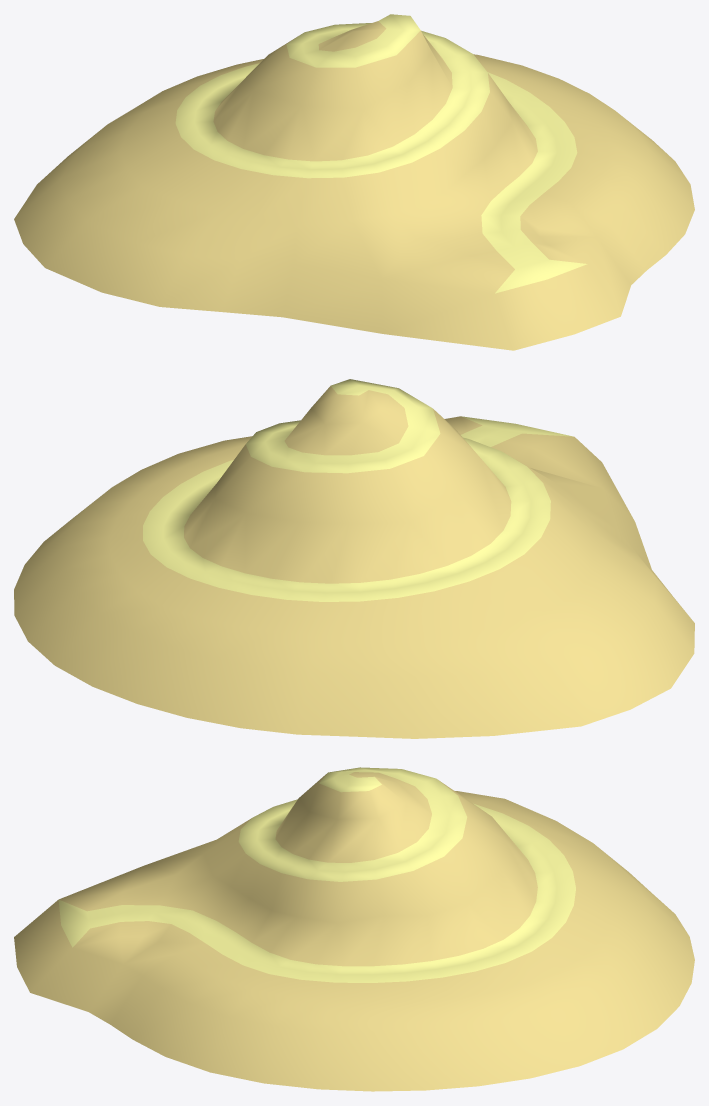
File: model_island_01.fbx
The picture shows the model from 3 angles, top to bottom: view 1: azimuth 30°, elevation 25°; view 2: azimuth 150°, elevation 25°; view 3: azimuth 270°, elevation 25°; orthographic projection. The views are drawn at different scales.
Visible parts, largest first — view 1: island01_geo; view 2: island01_geo; view 3: island01_geo.
Boxes of the visible parts, x1=… form: island01_geo: x1=14, y1=14, x2=694, y2=350; island01_geo: x1=14, y1=379, x2=694, y2=738; island01_geo: x1=14, y1=767, x2=694, y2=1091.
Size of the model in its own units: 355 by 107 by 360.
